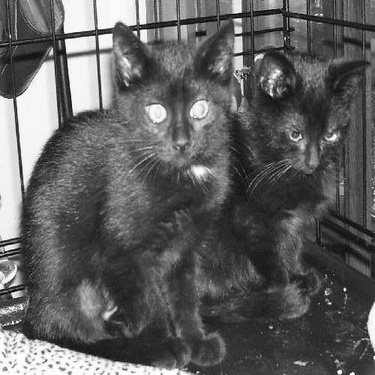cat: (14, 20, 235, 373), (226, 43, 371, 297)
